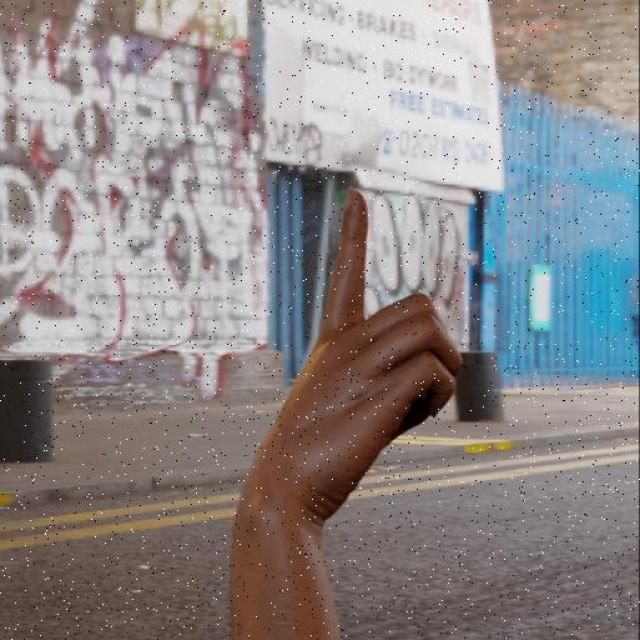D: (230, 186, 464, 524)
